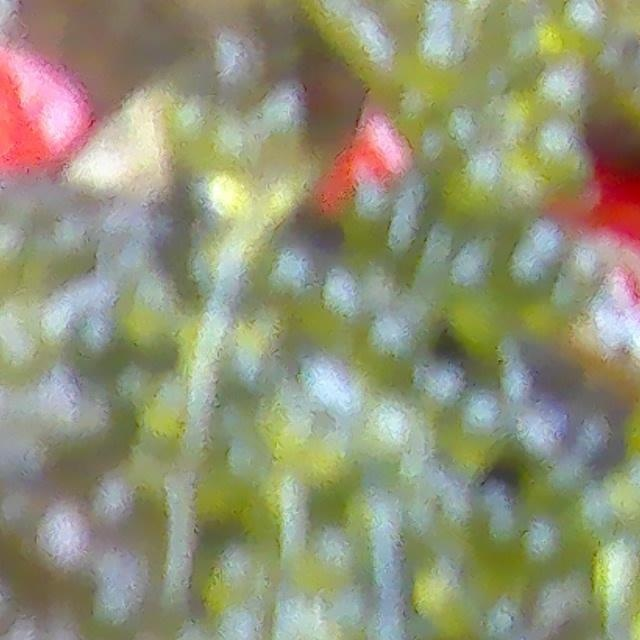SeaGrape: (17, 506, 100, 588), (355, 399, 423, 469), (530, 68, 584, 122)
